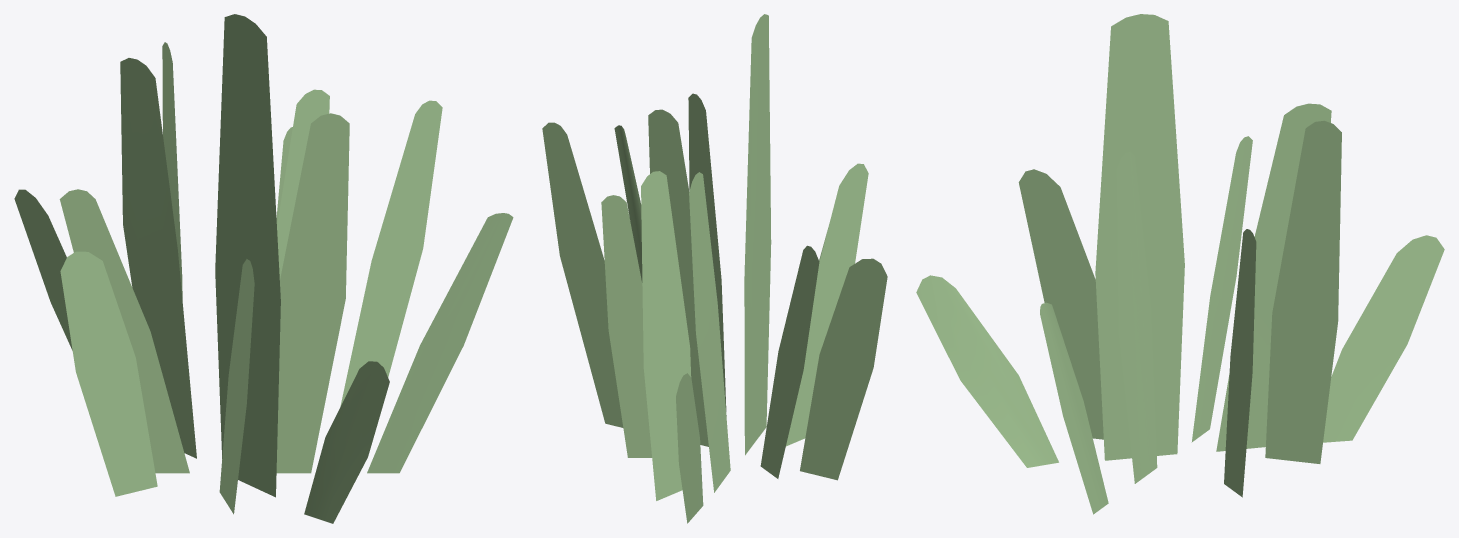
Rendered from RW_Grass_2.fbx.
The picture shows the model from 3 angles, left to right: view 1: azimuth 30°, elevation 25°; view 2: azimuth 150°, elevation 25°; view 3: azimuth 270°, elevation 25°; orthographic projection. The views are drawn at different scales.
Parts seen in each view (by area): view 1: RW_Grass_2; view 2: RW_Grass_2; view 3: RW_Grass_2.
Part boxes in pixels (bbox=[...]): RW_Grass_2: bbox=[14, 14, 513, 523]; RW_Grass_2: bbox=[542, 14, 887, 523]; RW_Grass_2: bbox=[916, 14, 1444, 514].
Bounding box in the file's own units: 137 × 161 × 175.
